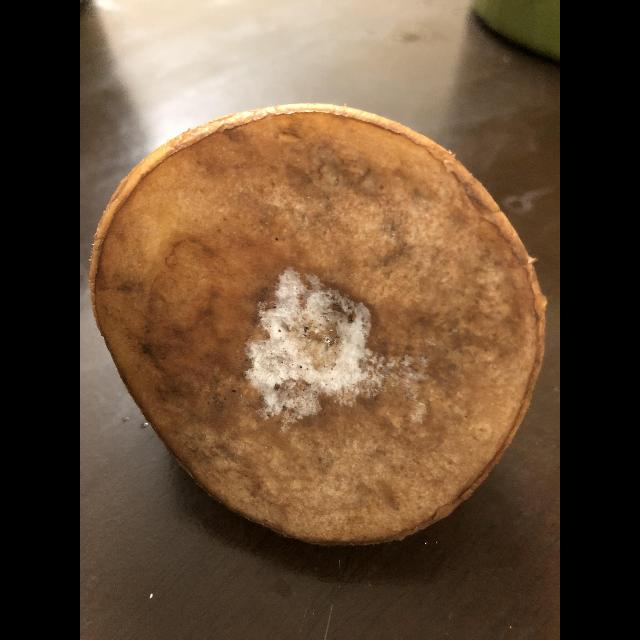Diseased-fungal potato: (95, 108, 553, 550)
